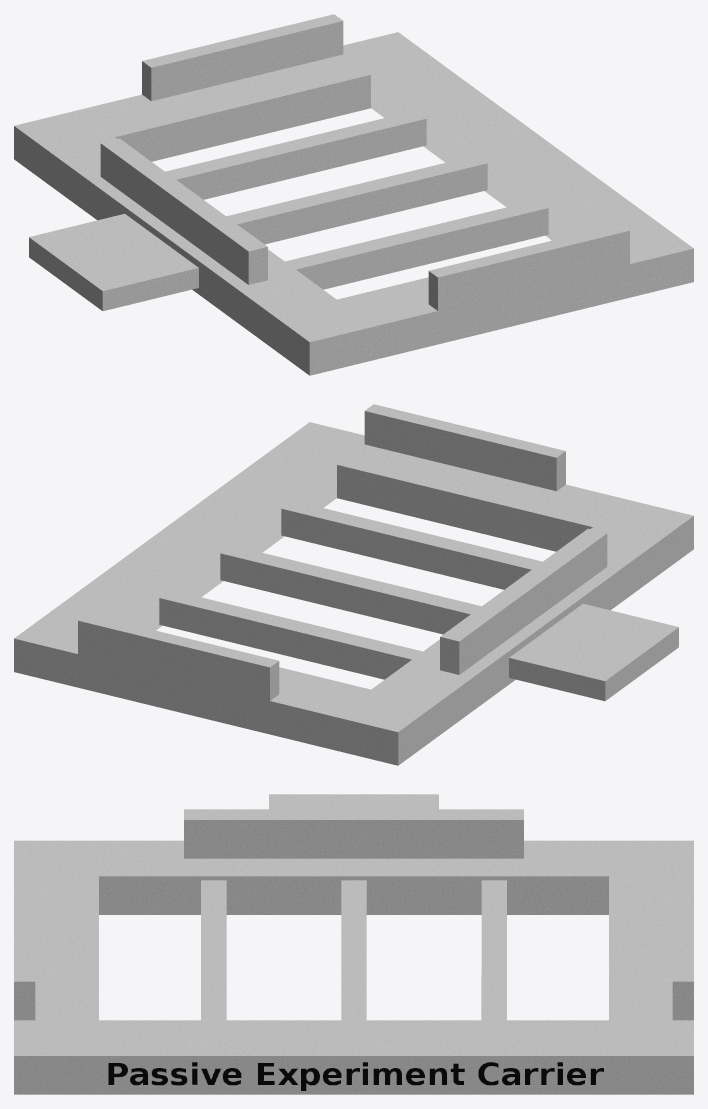
Rendered from KEES_PEC.fbx.
The picture shows the model from 3 angles, top to bottom: view 1: azimuth 30°, elevation 25°; view 2: azimuth 150°, elevation 25°; view 3: azimuth 270°, elevation 25°; orthographic projection. The views are drawn at different scales.
Visible parts, largest first — view 1: KEES_PEC; view 2: KEES_PEC; view 3: KEES_PEC.
Boxes of the visible parts, x1,y1,x2,y2 form: KEES_PEC: (14, 14, 693, 375); KEES_PEC: (14, 404, 693, 765); KEES_PEC: (14, 794, 693, 1094).
Bounding box in the file's own units: 1.5 × 0.2 × 1.6.
